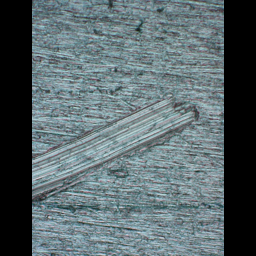d: (32, 94, 202, 206)
